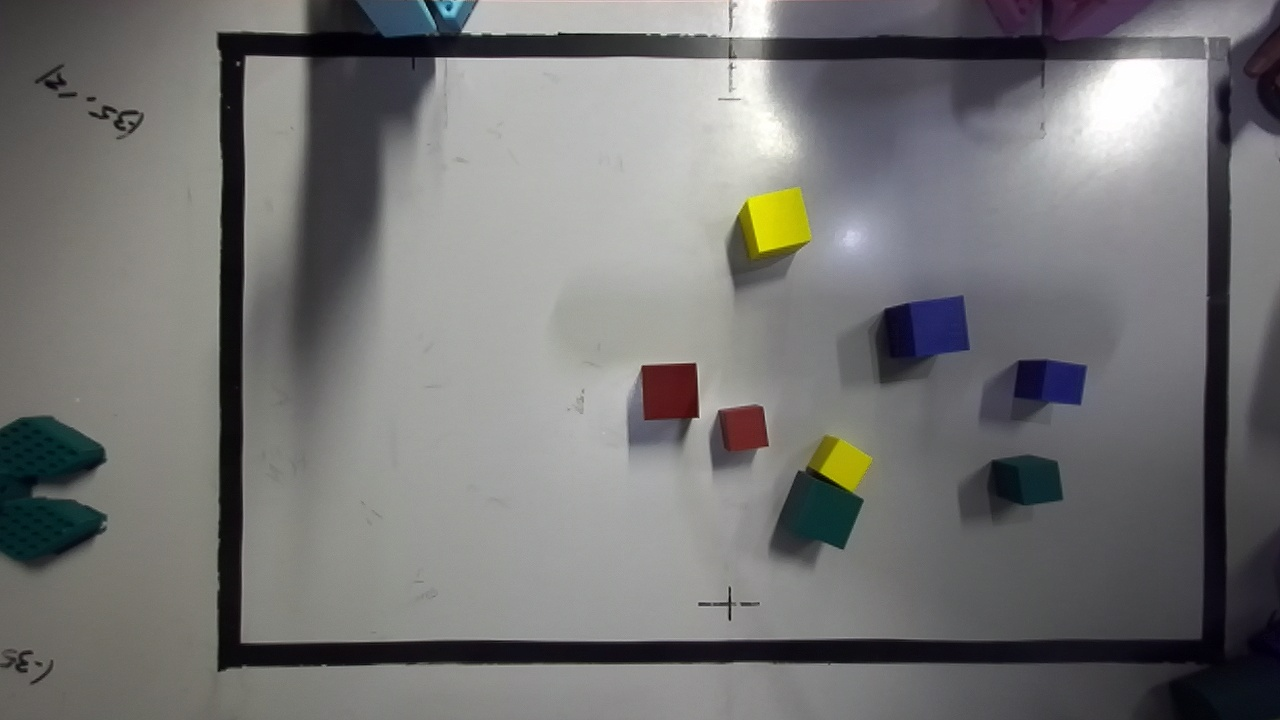cube: (777, 471, 862, 548), (737, 187, 810, 259), (884, 296, 969, 357), (807, 435, 871, 491), (990, 455, 1062, 504), (641, 363, 699, 419), (1014, 360, 1086, 404), (718, 405, 768, 451)
